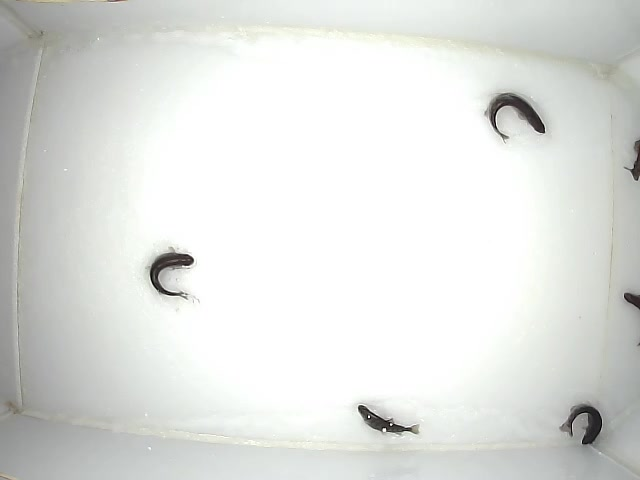fish: (480, 90, 549, 143), (145, 243, 197, 301), (355, 400, 422, 437), (557, 401, 603, 448)
